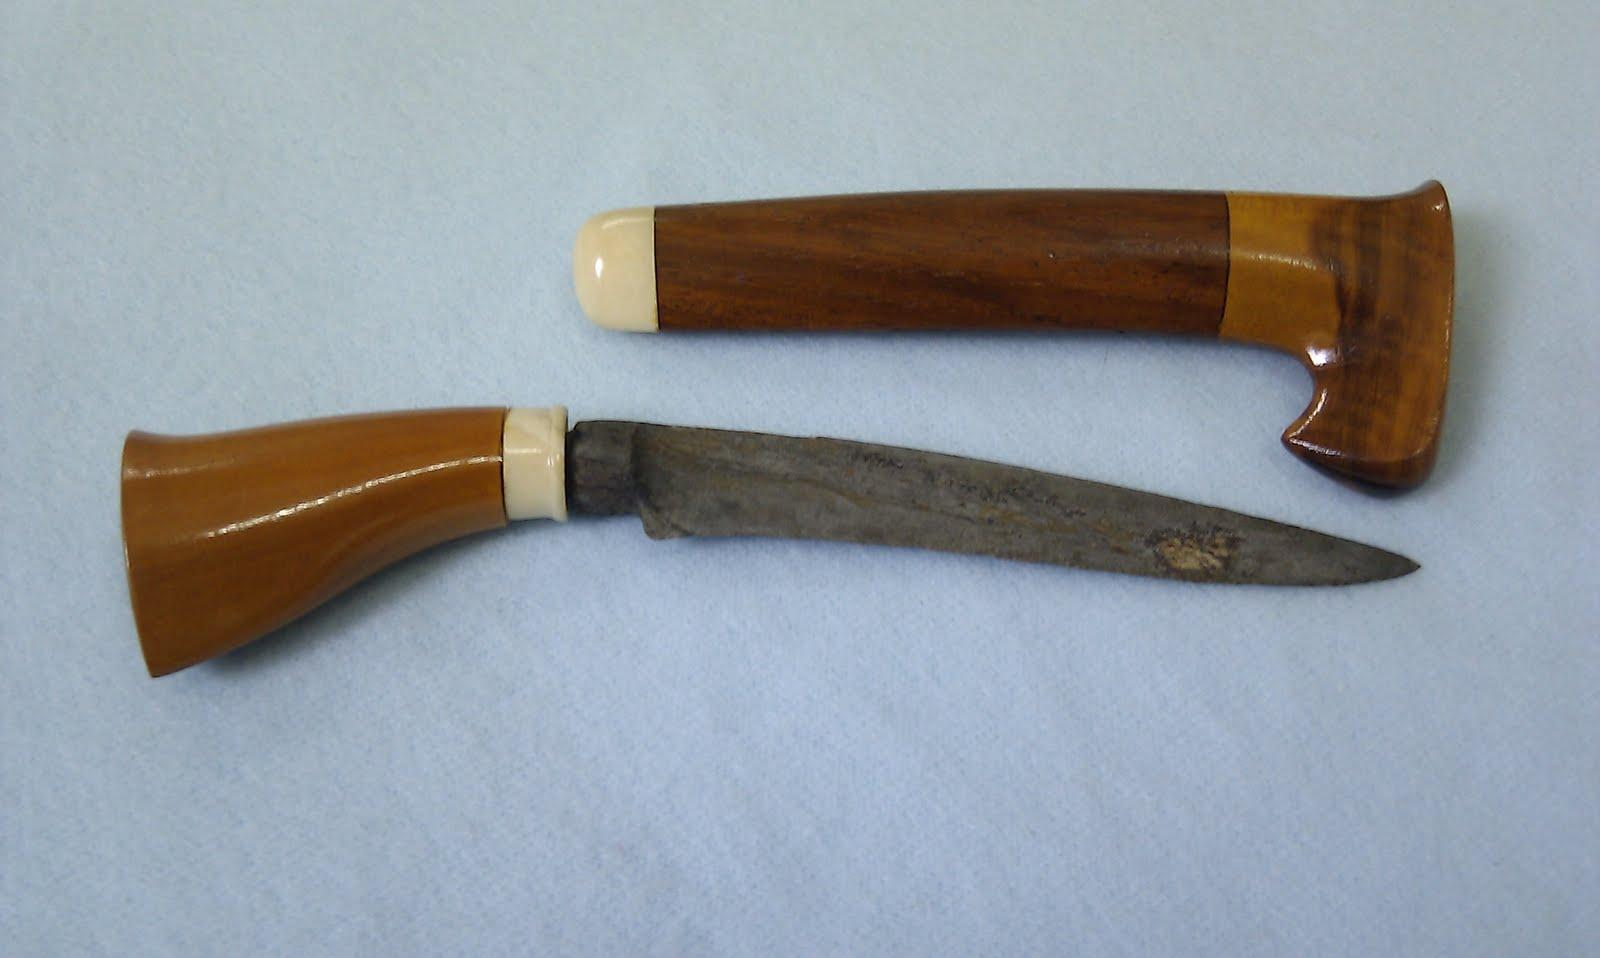facao: (108, 409, 1438, 695)
